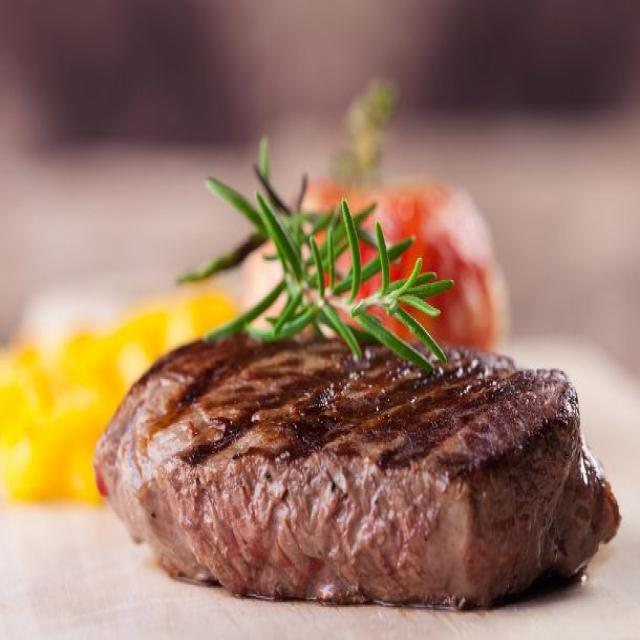Carne: (92, 326, 621, 610)
